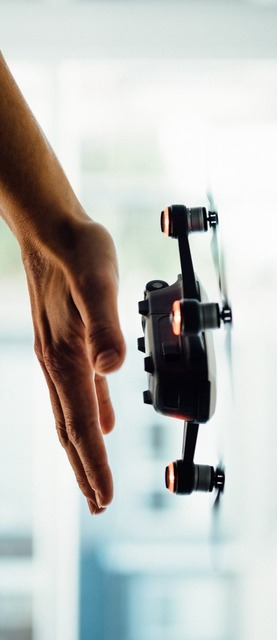drone: (135, 189, 235, 509)
